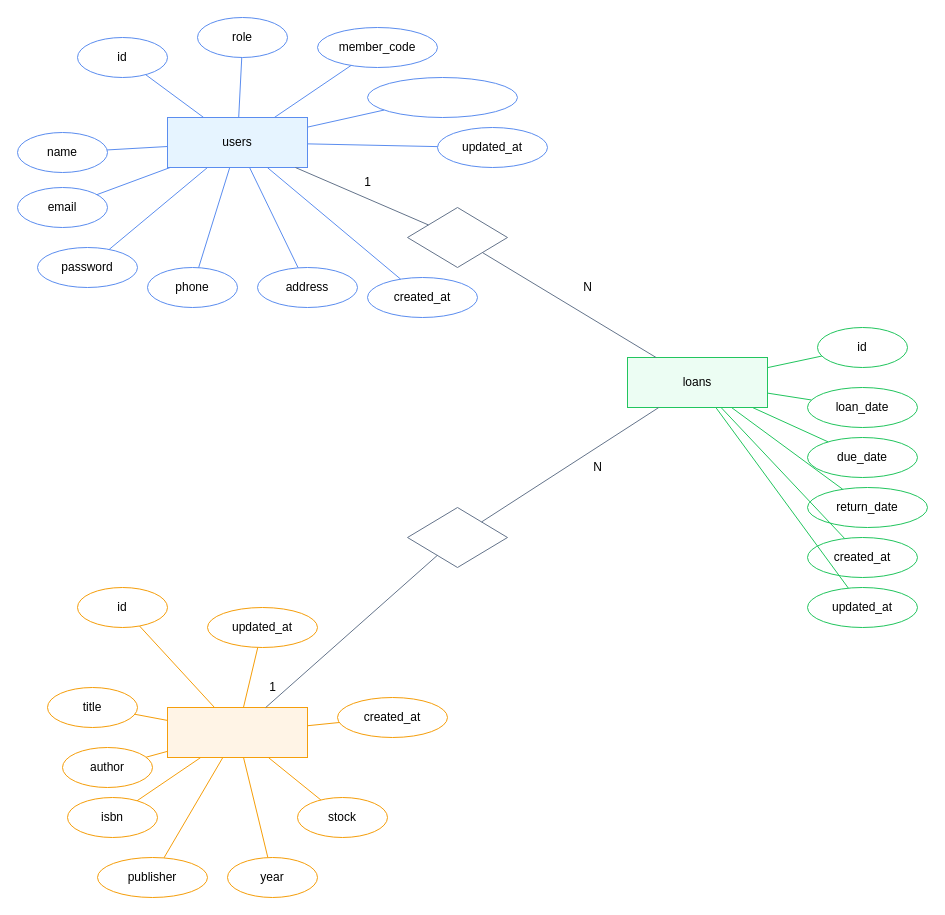
Some shapes in this 945 by 915 pixel diagram are drawn without their labels. Each missing label, with the centre of its shape:
"books" belongs at [237,732].
"dipinjam" belongs at [457,537].
"meminjam" belongs at [457,237].
"remember_token" belongs at [442,97].
